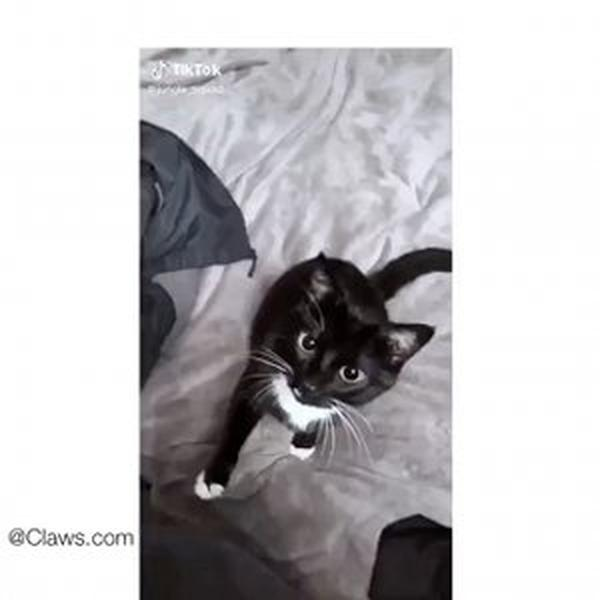michi: (180, 235, 452, 505)
